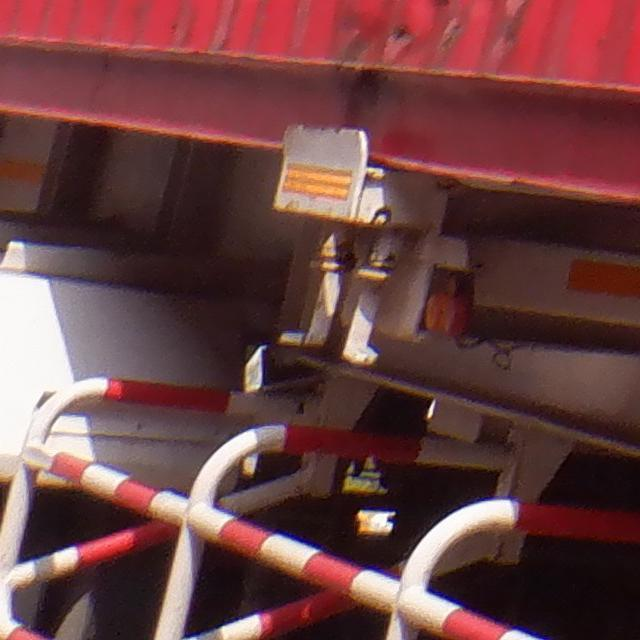dent: (288, 1, 585, 62)
